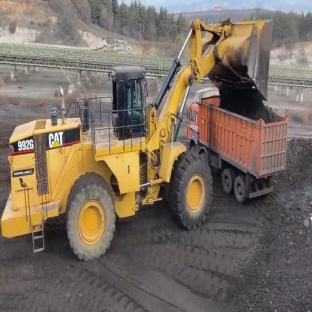ExcavationMachinery: (45, 27, 256, 225)
Vehicle: (192, 92, 298, 208)
